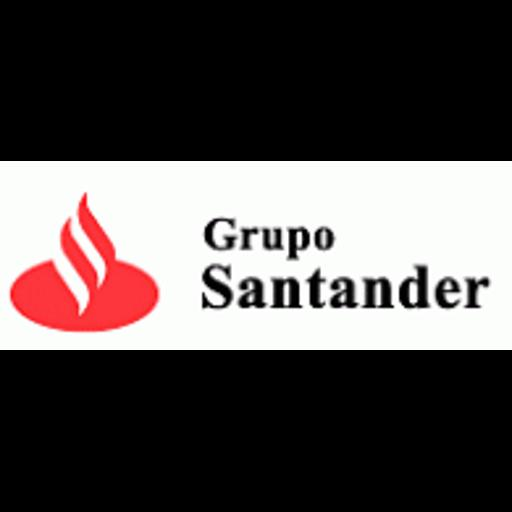Grupo Santander: (0, 161, 512, 350)
